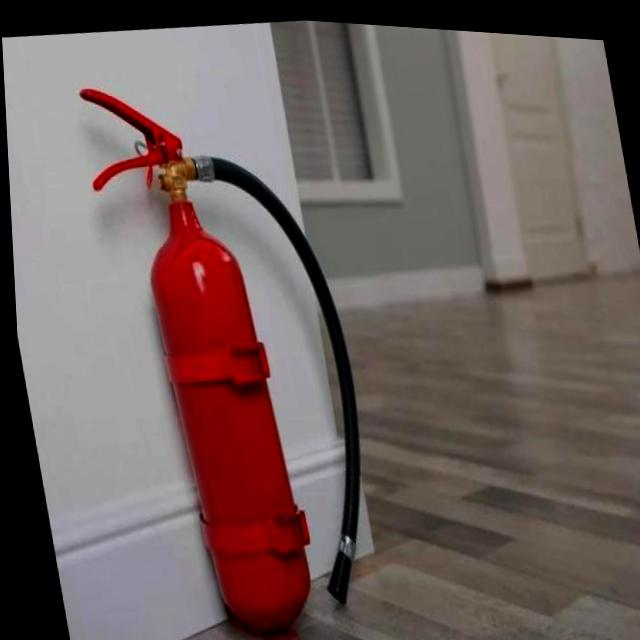FireExtinguisher: (66, 50, 393, 640)
